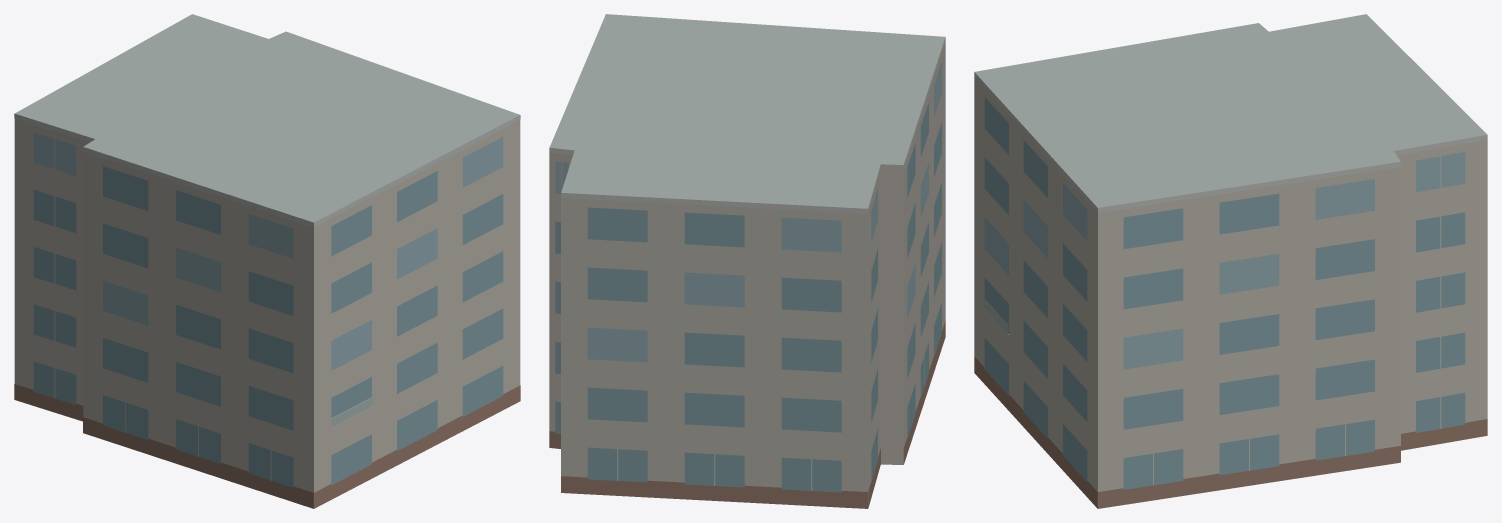
File: survey-upis-32943133.glb
3 views of the same model, side by side, from view 1: azimuth 30°, elevation 25°; view 2: azimuth 150°, elevation 25°; view 3: azimuth 270°, elevation 25° (orthographic). The views are drawn at different scales.
Visible parts, largest first — view 1: survey-upis-32943133.tmp; view 2: survey-upis-32943133.tmp; view 3: survey-upis-32943133.tmp.
Boxes of the visible parts, left/top/right/bottom form: survey-upis-32943133.tmp: left=14, top=14, right=520, bottom=508; survey-upis-32943133.tmp: left=549, top=14, right=945, bottom=508; survey-upis-32943133.tmp: left=974, top=14, right=1487, bottom=508.
Size of the model in its own units: 19.77 by 14.3 by 22.11.
